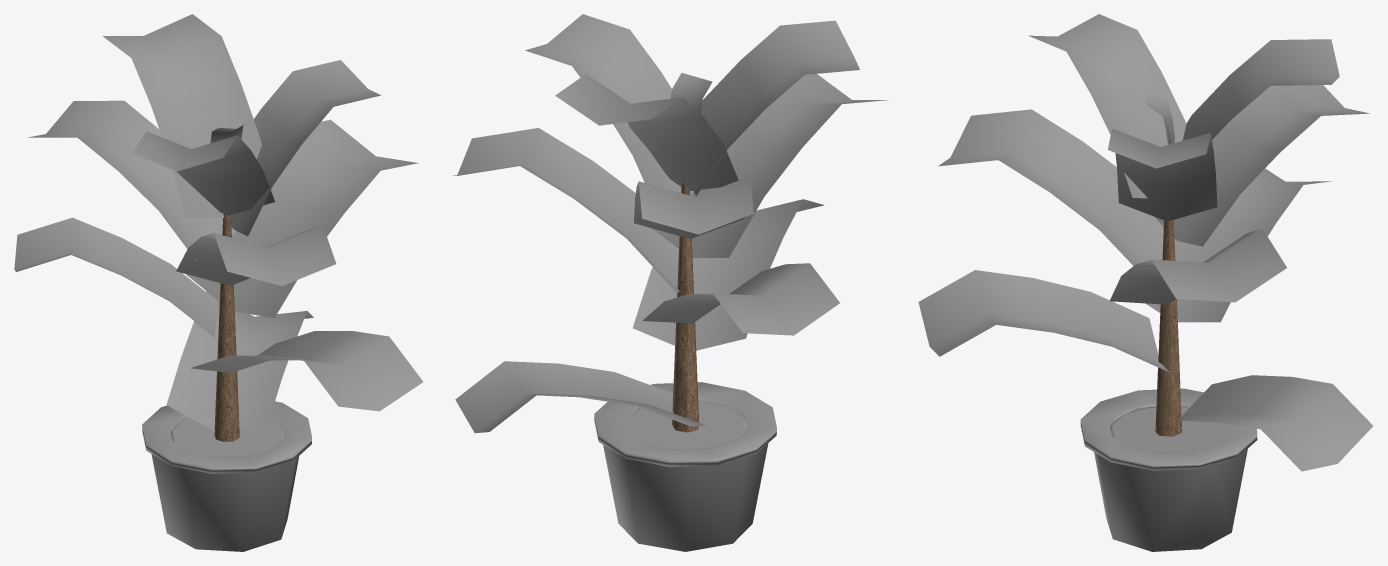
File: Pictum_leaf_lod1.fbx
3 views of the same model, side by side, from view 1: azimuth 30°, elevation 25°; view 2: azimuth 150°, elevation 25°; view 3: azimuth 270°, elevation 25° (orthographic). The views are drawn at different scales.
Parts seen in each view (by area): view 1: Pictum_leaf_lod1; view 2: Pictum_leaf_lod1; view 3: Pictum_leaf_lod1.
Part boxes in pixels (x1=…): Pictum_leaf_lod1: x1=14, y1=14, x2=423, y2=551; Pictum_leaf_lod1: x1=453, y1=14, x2=887, y2=551; Pictum_leaf_lod1: x1=918, y1=14, x2=1372, y2=551.
Bounding box in the file's own units: 56.32 × 64.95 × 57.23.
Materials: 3 (1 with a texture image).
